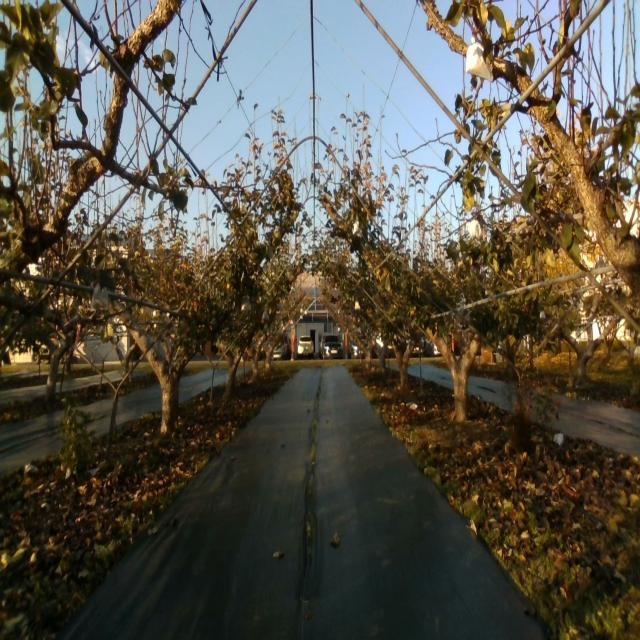pearbags: (466, 35, 493, 82), (90, 284, 110, 310), (467, 219, 482, 241)
